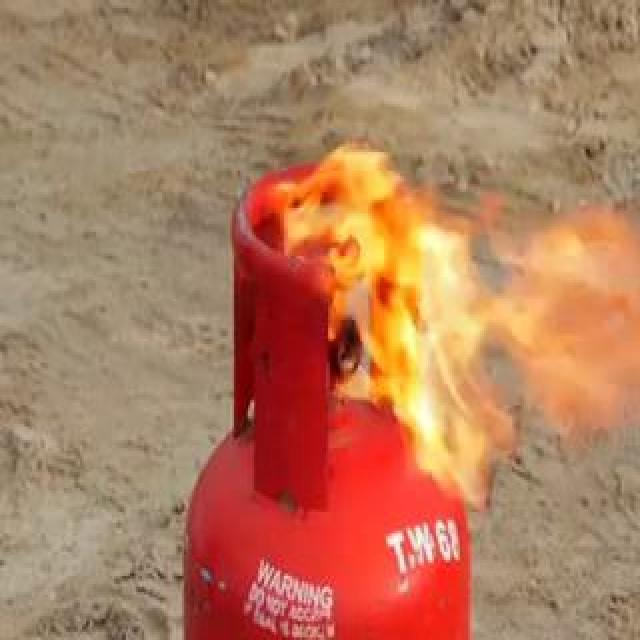Fire: (241, 88, 537, 493)
